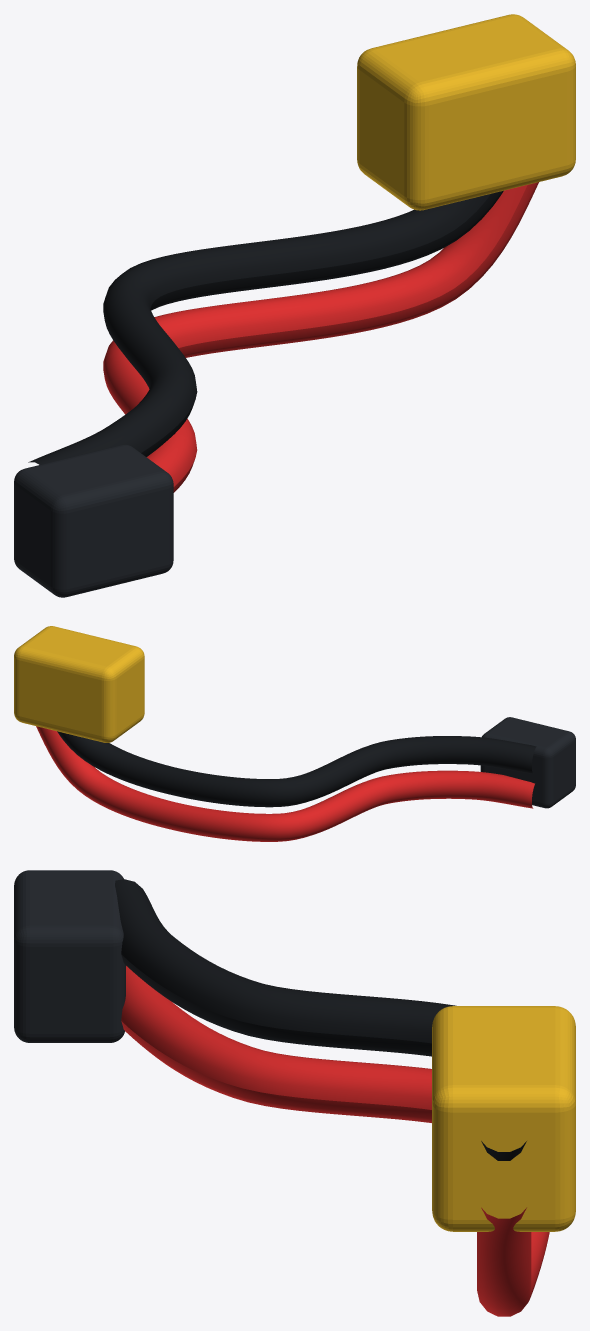
File: xt60-openesc-battery-harness.glb
3 renders of one model, top to bottom at view 1: azimuth 30°, elevation 25°; view 2: azimuth 150°, elevation 25°; view 3: azimuth 270°, elevation 25°, orthographic. The views are drawn at different scales.
Visible parts, largest first — view 1: XT60_12AWG_to_OpenESC_installed_harness; view 2: XT60_12AWG_to_OpenESC_installed_harness; view 3: XT60_12AWG_to_OpenESC_installed_harness.
Part boxes in pixels (left/top/right/bottom): XT60_12AWG_to_OpenESC_installed_harness: left=14, top=14, right=575, bottom=597; XT60_12AWG_to_OpenESC_installed_harness: left=14, top=626, right=575, bottom=841; XT60_12AWG_to_OpenESC_installed_harness: left=14, top=870, right=575, bottom=1316.
Bounding box in the file's own units: 0.0592 × 0.0205 × 0.0352.
